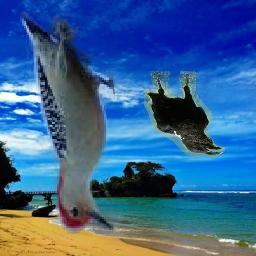Crow: (145, 71, 226, 157)
Woodpecker: (21, 12, 116, 234)
